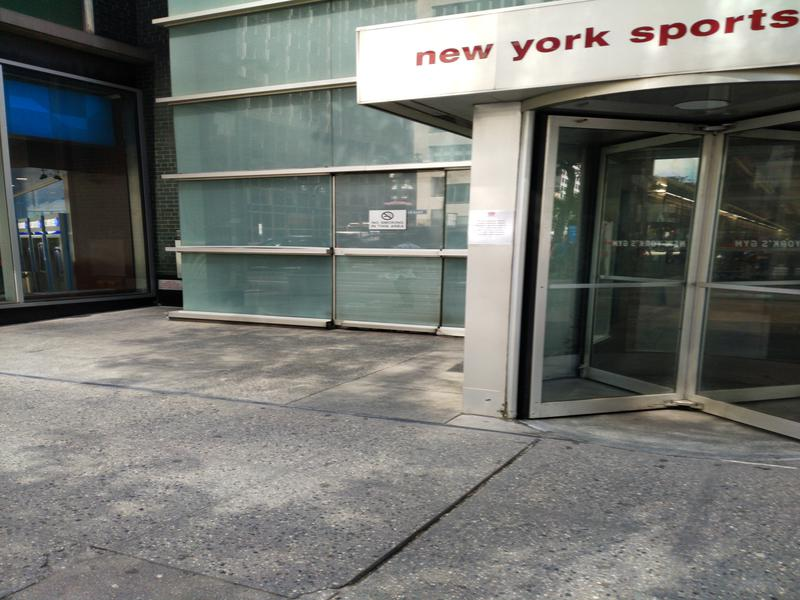door: (329, 161, 451, 338)
revolving_door: (520, 83, 800, 447)
